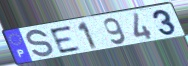1: (77, 20, 99, 50)
3: (150, 8, 180, 37)
4: (132, 11, 154, 41)
9: (103, 17, 128, 46)
E: (48, 24, 83, 55)
S: (26, 28, 55, 60)
